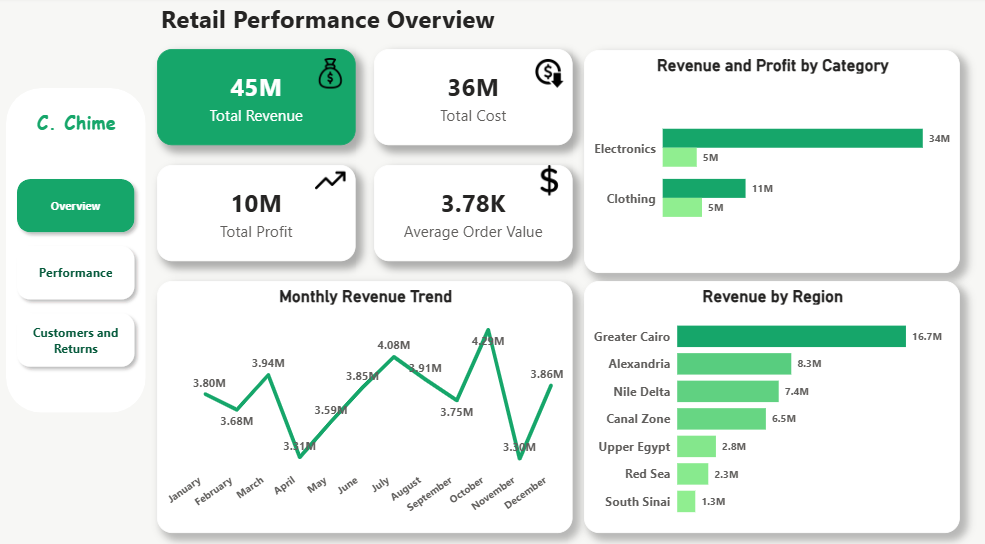

Layout of this report page (visuals, bound fields, positions):
{"tool":"powerbi","page":{"name":"Overview","canvas":[1300,720],"ordinal":0},"visuals":[{"type":"group","id":"g1","title":"Group 1","box":[14.4,119.5,183,425],"z":0},{"type":"shape","box":[14.4,119.5,183,425],"z":0,"group":"g1"},{"type":"textbox","box":[212.1,0,493.5,78.5],"z":1000},{"type":"pageNavigator","box":[19.1,229.7,172.8,265.1],"z":1000,"group":"g1"},{"type":"cardVisual","fields":{"Data":["Measures table.Total Revenue"]},"box":[211.4,68.6,260,125.7],"z":2000},{"type":"cardVisual","fields":{"Data":["Measures table.Total Profit"]},"box":[211.4,220,260,125.7],"z":3000},{"type":"cardVisual","fields":{"Data":["Measures table.Total Cost"]},"box":[495.7,68.6,260,125.7],"z":4000},{"type":"cardVisual","fields":{"Data":["Measures table.Average Order Value"]},"box":[495.7,220,260,125.7],"z":5000},{"type":"lineChart","title":"Monthly Revenue Trend","fields":{"Y":["Measures table.Total Revenue"],"Category":["dim_date.month_name"]},"box":[211.7,371.5,544.3,329.8],"z":6000},{"type":"clusteredBarChart","title":"Revenue and Profit by Category","fields":{"Category":["dim_products.category"],"Y":["Measures table.Total Revenue","Measures table.Total Profit"]},"box":[770.4,69.1,492.5,292.3],"z":7000},{"type":"clusteredBarChart","title":"Revenue by Region","fields":{"Y":["Measures table.Total Revenue"],"Category":["dim_stores.region"]},"box":[770.4,371.5,492.5,329.8],"z":8000},{"type":"textbox","box":[25,142.4,163.6,53.7],"z":8502,"group":"g1"},{"type":"image","box":[705.6,79.2,40.3,40.3],"z":9000},{"type":"image","box":[419,220.3,40.3,40.3],"z":10000},{"type":"image","box":[705.6,220.3,40.3,40.3],"z":11000},{"type":"image","box":[419,79.2,40.3,40.3],"z":12000}]}

Visuals, with their boxes in screenshot pixels (x1, y1, x2, y2), scaled from the page's 1300x720 canvas onto the 985x544 screenshot:
"Group 1" group: <bbox>11, 90, 150, 411</bbox>
shape: <bbox>11, 90, 150, 411</bbox>
textbox: <bbox>161, 0, 535, 59</bbox>
pageNavigator: <bbox>14, 174, 145, 374</bbox>
cardVisual - Measures table.Total Revenue: <bbox>160, 52, 357, 147</bbox>
cardVisual - Measures table.Total Profit: <bbox>160, 166, 357, 261</bbox>
cardVisual - Measures table.Total Cost: <bbox>376, 52, 573, 147</bbox>
cardVisual - Measures table.Average Order Value: <bbox>376, 166, 573, 261</bbox>
"Monthly Revenue Trend" lineChart: <bbox>160, 281, 573, 530</bbox>
"Revenue and Profit by Category" clusteredBarChart: <bbox>584, 52, 957, 273</bbox>
"Revenue by Region" clusteredBarChart: <bbox>584, 281, 957, 530</bbox>
textbox: <bbox>19, 108, 143, 148</bbox>
image: <bbox>535, 60, 565, 90</bbox>
image: <bbox>317, 166, 348, 197</bbox>
image: <bbox>535, 166, 565, 197</bbox>
image: <bbox>317, 60, 348, 90</bbox>
